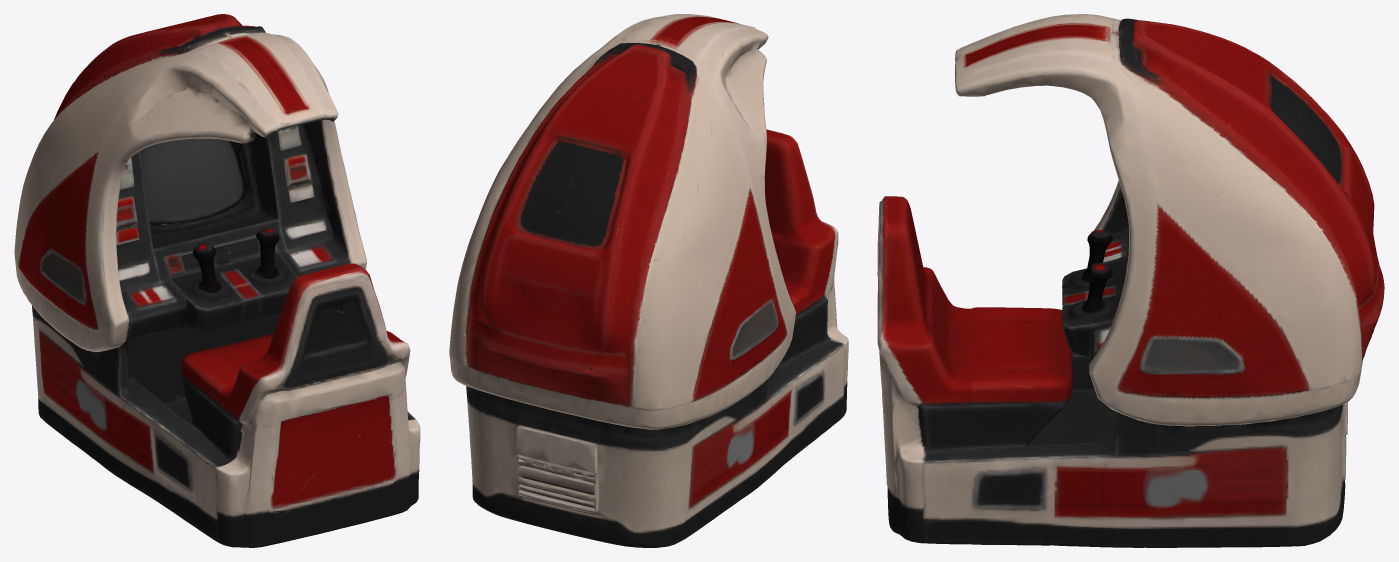
File: 11_arcade_11_cockpit_shooter.glb
3 views of the same model, side by side, from view 1: azimuth 30°, elevation 25°; view 2: azimuth 150°, elevation 25°; view 3: azimuth 270°, elevation 25° (orthographic). The views are drawn at different scales.
Parts seen in each view (by area): view 1: world; view 2: world; view 3: world.
Part boxes in pixels (x1=…): world: x1=14, y1=14, x2=420, y2=547; world: x1=449, y1=14, x2=848, y2=547; world: x1=877, y1=14, x2=1384, y2=547.
Bounding box in the file's own units: 0.6563 × 1 × 0.9933.
1 material, 1 textured.
